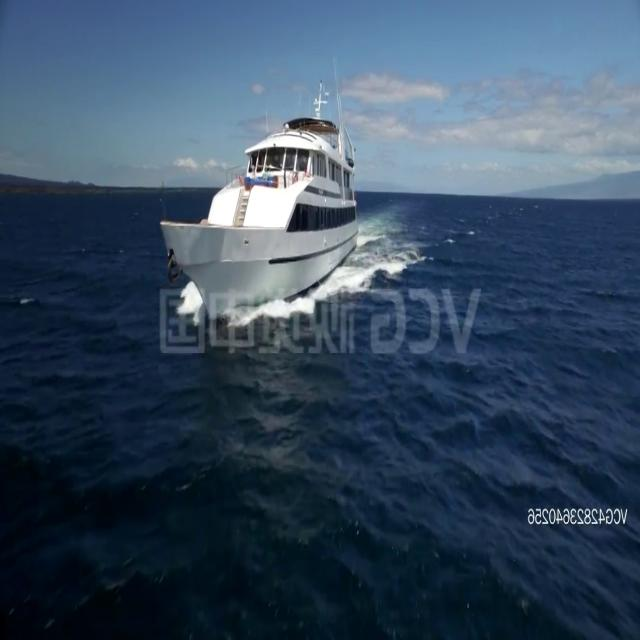houseboat: (158, 110, 356, 322)
